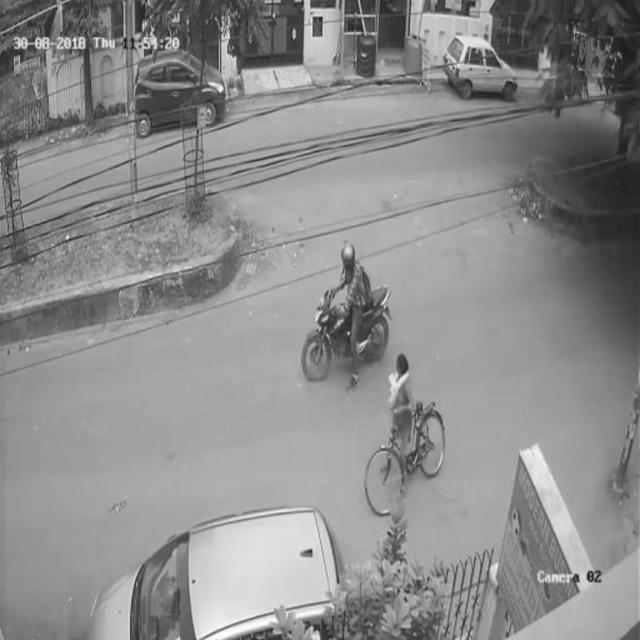vehicle: (88, 502, 346, 636), (300, 234, 392, 380), (365, 354, 446, 519), (138, 52, 226, 130), (441, 27, 519, 105)
